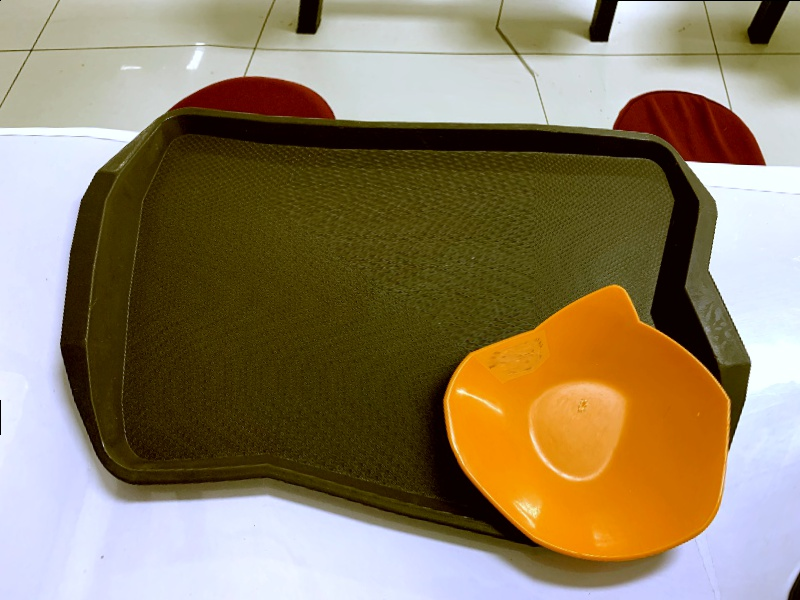dish11: (440, 277, 721, 568)
